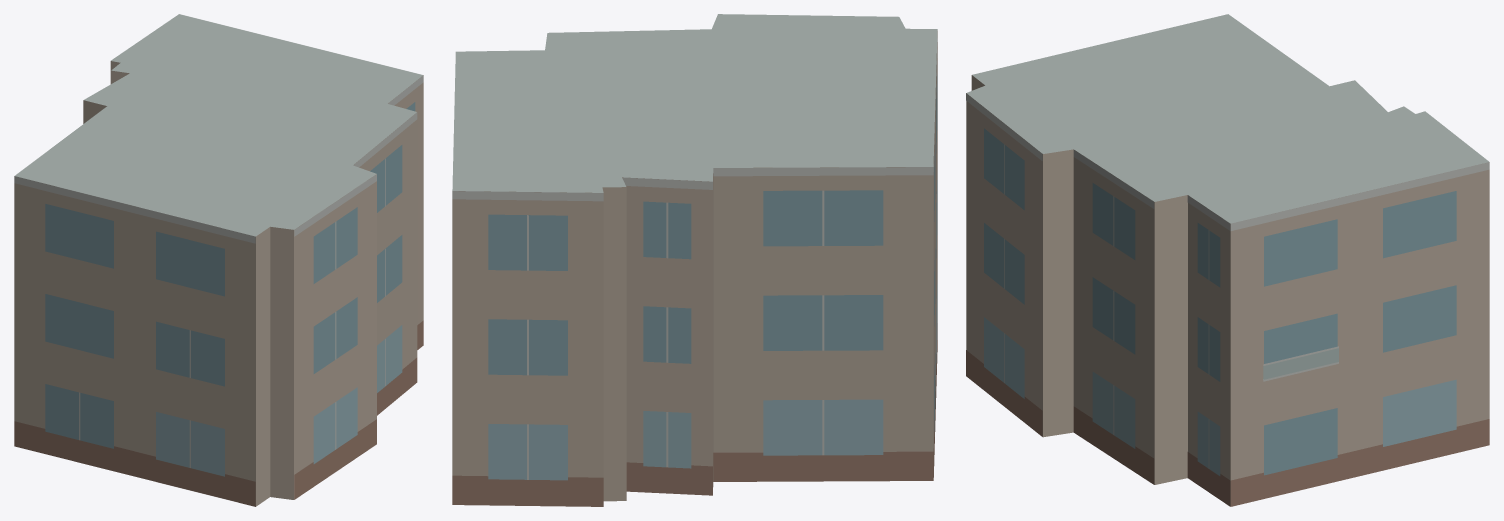
Rendered from survey-upis-32581364.glb.
The picture shows the model from 3 angles, left to right: view 1: azimuth 30°, elevation 25°; view 2: azimuth 150°, elevation 25°; view 3: azimuth 270°, elevation 25°; orthographic projection. The views are drawn at different scales.
Visible parts, largest first — view 1: survey-upis-32581364.tmp; view 2: survey-upis-32581364.tmp; view 3: survey-upis-32581364.tmp.
Part boxes in pixels (<box>): survey-upis-32581364.tmp: <box>14,14,423,506</box>; survey-upis-32581364.tmp: <box>452,14,937,506</box>; survey-upis-32581364.tmp: <box>966,14,1489,506</box>.
Size of the model in its own units: 14.54 by 9.15 by 15.34.
